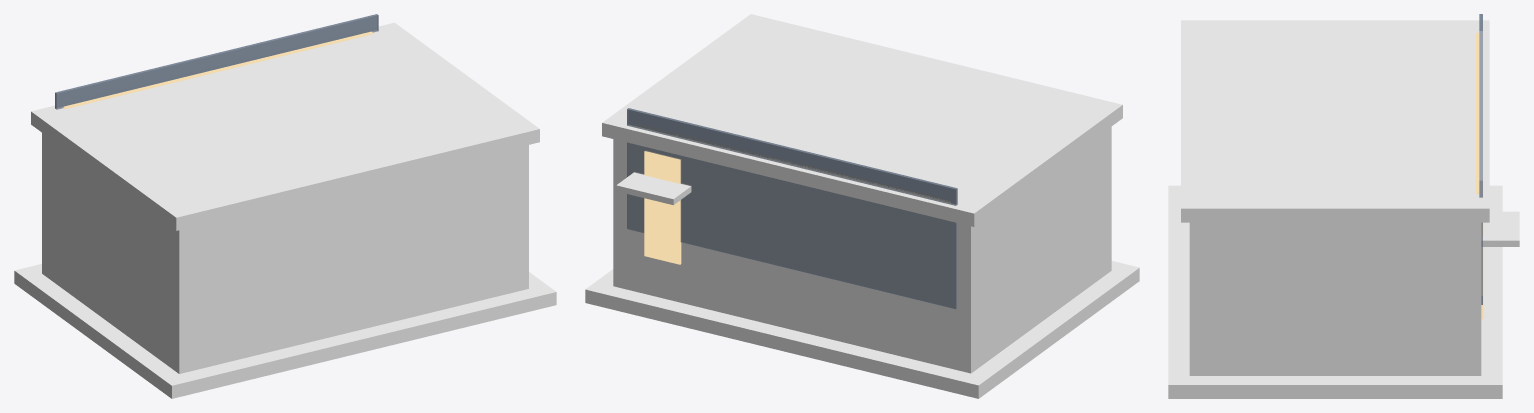
File: SA-001_Field_Works_Complex.glb
3 renders of one model, left to right at view 1: azimuth 30°, elevation 25°; view 2: azimuth 150°, elevation 25°; view 3: azimuth 270°, elevation 25°, orthographic. The views are drawn at different scales.
Parts seen in each view (by area): view 1: Complex_Main_Body, Complex_Roof, Building_Plinth.003, Windows_Glass_Front, Internal_Office_Light; view 2: Complex_Main_Body, Complex_Roof, Windows_Glass_Front, Building_Plinth.003, Entry_Door, Entrance_Canopy; view 3: Complex_Roof, Complex_Main_Body, Building_Plinth.003, Entrance_Canopy, Windows_Glass_Front, Internal_Office_Light.
Part boxes in pixels (box(x1,y1,x2,y2)): Complex_Main_Body: box(42, 133, 528, 373); Complex_Roof: box(31, 22, 539, 230); Building_Plinth.003: box(14, 264, 556, 398); Windows_Glass_Front: box(55, 14, 378, 109); Internal_Office_Light: box(63, 31, 372, 108); Complex_Main_Body: box(613, 127, 1111, 373); Complex_Roof: box(602, 14, 1122, 226); Windows_Glass_Front: box(627, 108, 957, 309); Building_Plinth.003: box(585, 261, 1139, 398); Entry_Door: box(644, 150, 681, 264); Entrance_Canopy: box(616, 172, 691, 205); Complex_Roof: box(1181, 20, 1489, 222); Complex_Main_Body: box(1189, 222, 1481, 375); Building_Plinth.003: box(1168, 185, 1502, 398); Entrance_Canopy: box(1481, 211, 1519, 246); Windows_Glass_Front: box(1479, 14, 1482, 304); Internal_Office_Light: box(1476, 33, 1479, 193).
Bounding box in the file's own units: 5.5 × 2.6 × 4.1.
